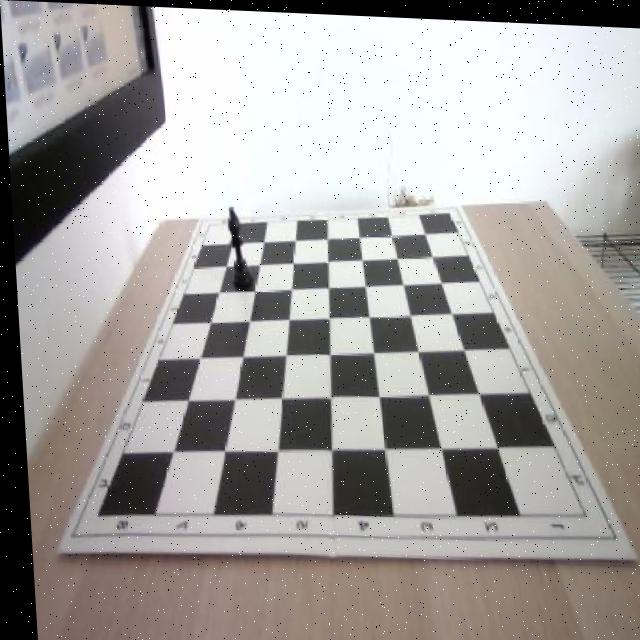bishop: (224, 203, 252, 291)
